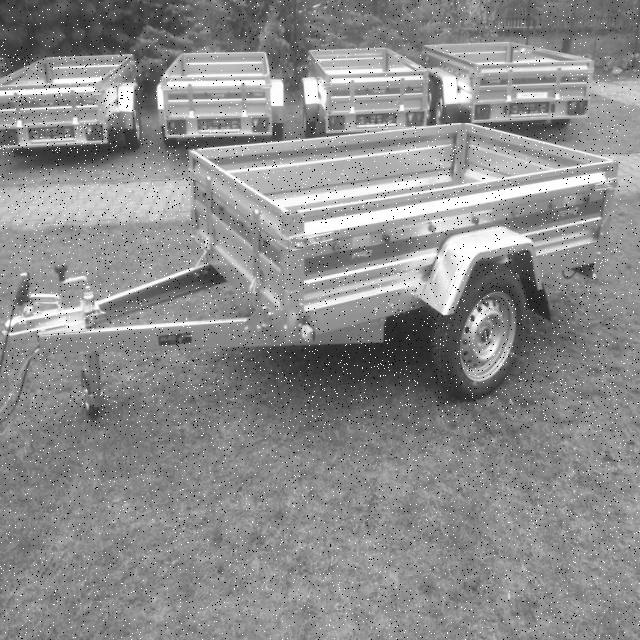Trailer: (0, 124, 618, 428), (0, 54, 141, 156)
